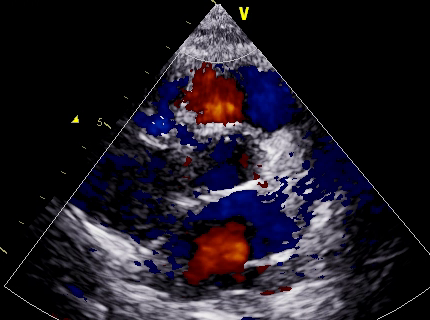TR: (140, 110, 190, 168)
